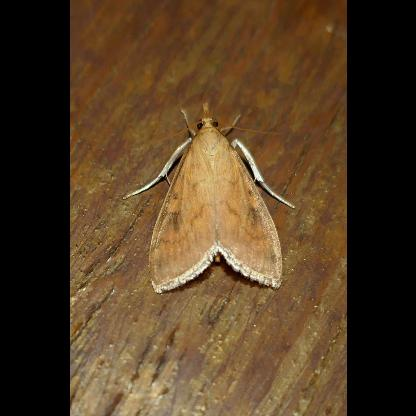Asian Corn Borer Moth: (118, 100, 298, 296)
